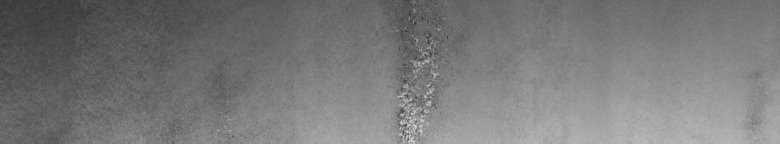hc: (389, 4, 450, 136)
